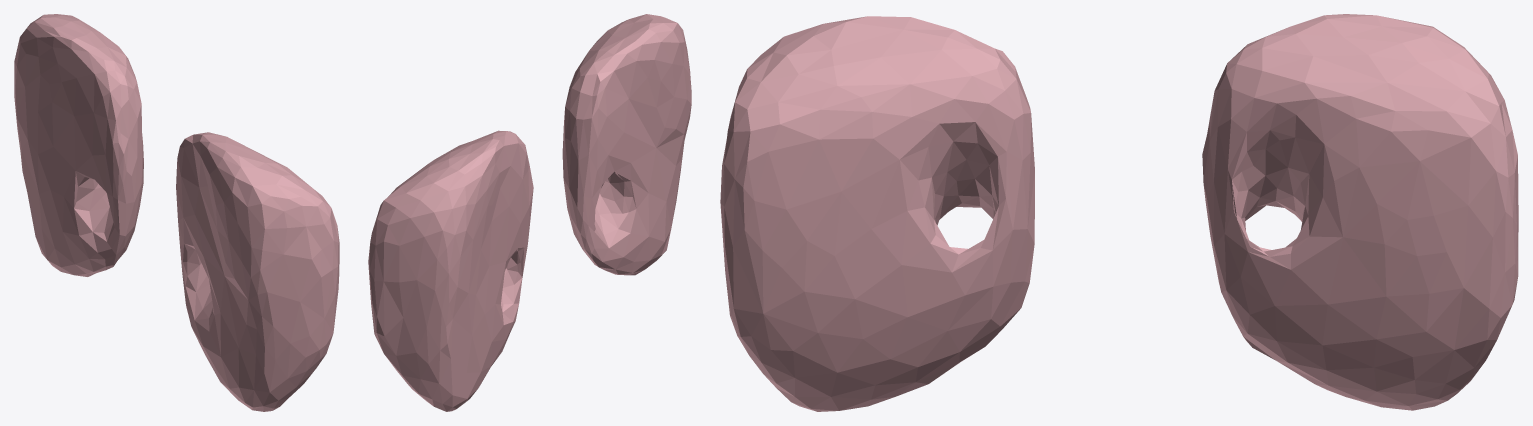
3 renders of one model, left to right at view 1: azimuth 30°, elevation 25°; view 2: azimuth 150°, elevation 25°; view 3: azimuth 270°, elevation 25°, orthographic. The views are drawn at different scales.
Visible parts, largest first — view 1: 930.obj; view 2: 930.obj; view 3: 930.obj.
Boxes of the visible parts, <box> form: 930.obj: <box>14,14,339,411</box>; 930.obj: <box>368,14,691,411</box>; 930.obj: <box>720,14,1518,411</box>.
Size of the model in its own units: 410 by 1158 by 2191.
